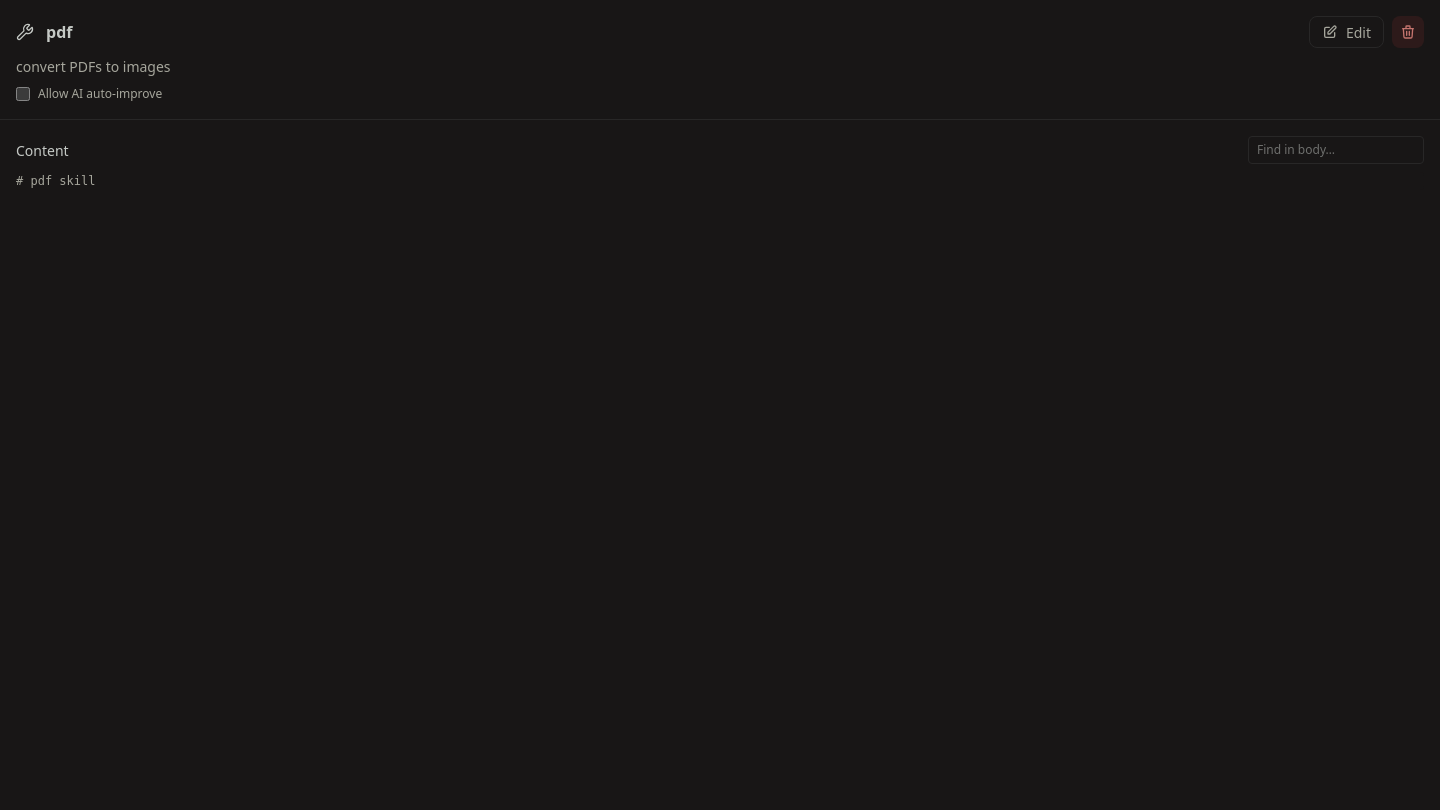
SkillDetail — editing › opens the form seeded from the loaded row, not blank
Click the button with test id "skill-edit-btn": (1346, 32) [1309, 16, 1384, 48]
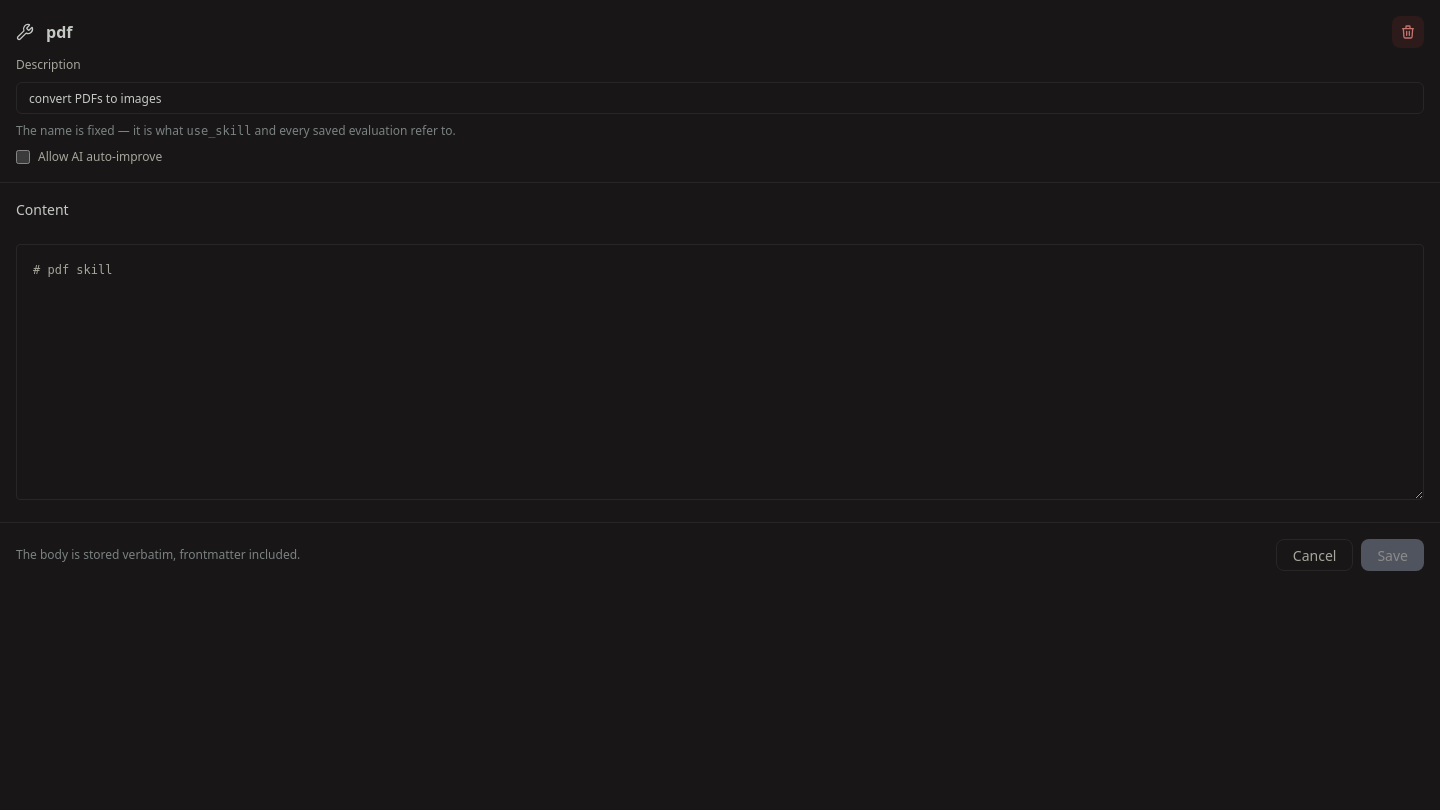
Expected: the field with test id "skill-edit-description" holds "convert PDFs to images", [16, 82, 1424, 114]
Expected: the text box with test id "skill-edit-content" holds "# pdf skill", [16, 244, 1424, 500]
